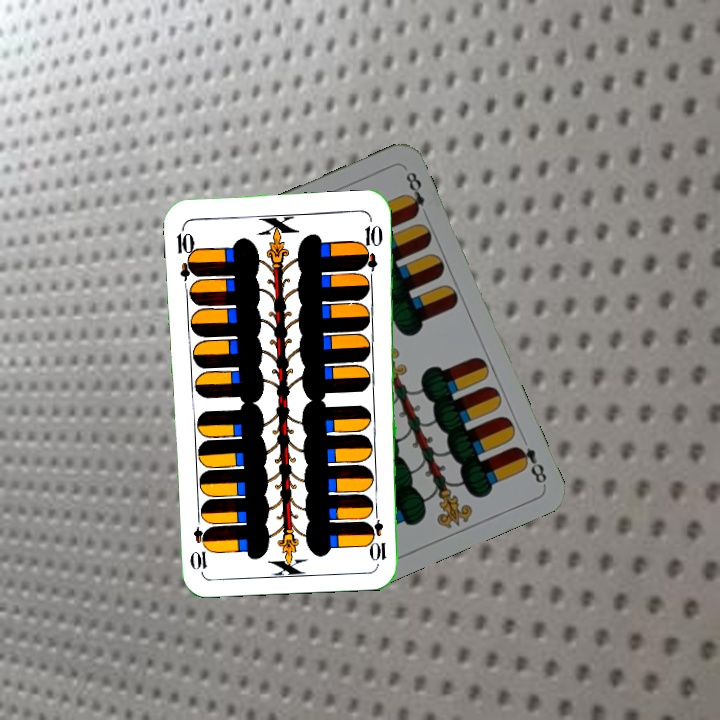E10: (172, 223, 199, 282), (369, 505, 389, 564)
E8: (511, 442, 549, 486)
